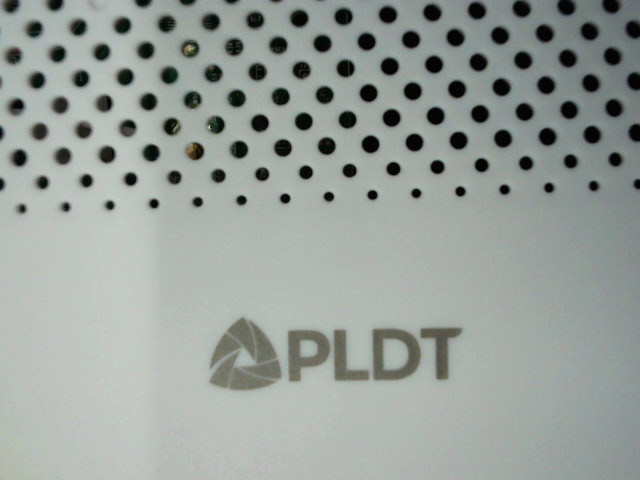BH_PLDT: (193, 298, 476, 414)
